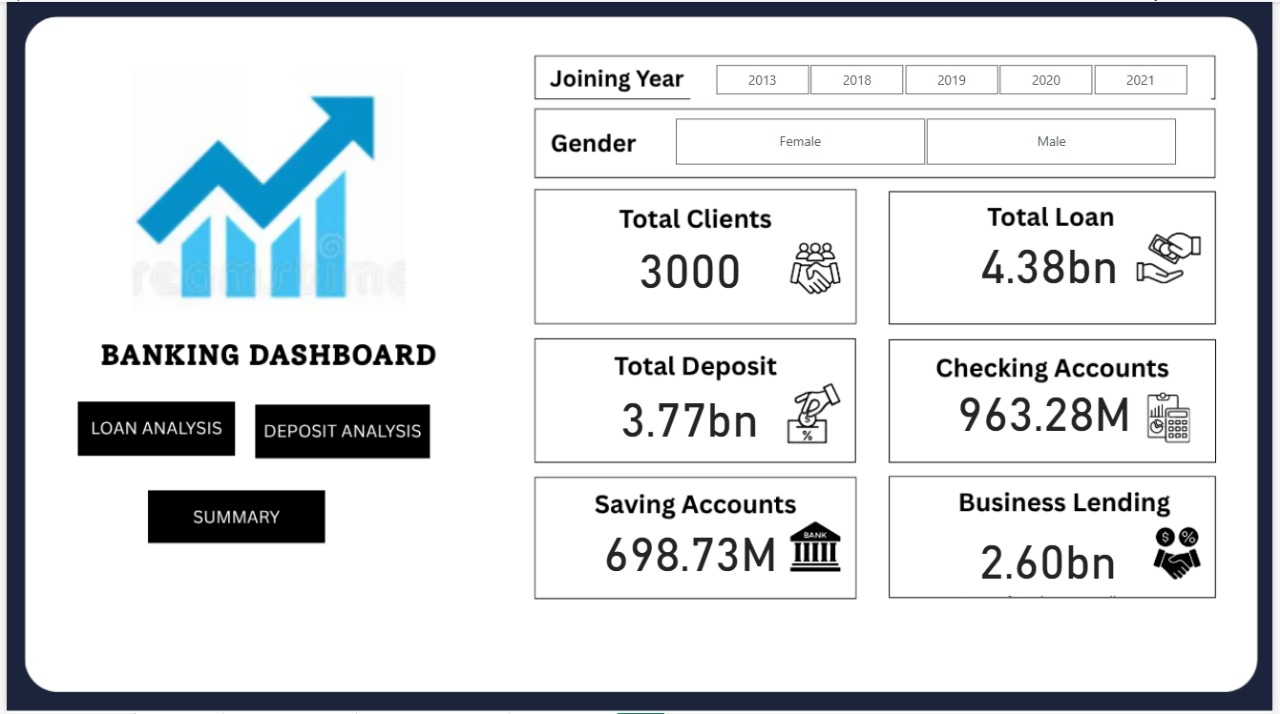

This screenshot's page, from the dashboard's own definition file:
{"tool":"powerbi","page":{"name":"Home","canvas":[1280,720],"ordinal":0},"visuals":[{"type":"card","fields":{"Values":["CountNonNull(customer.Name)"]},"box":[593.6,250.9,195.4,53.1],"z":0},{"type":"card","fields":{"Values":["customer.Total Loan"]},"box":[947.1,241.3,214.7,62.7],"z":1000},{"type":"card","fields":{"Values":["customer.Total deposit"]},"box":[570.6,394.5,240.1,67.6],"z":2000},{"type":"card","fields":{"Values":["Sum(customer.Checking Accounts)"]},"box":[936.2,392.1,225.6,61.5],"z":3000},{"type":"card","fields":{"Values":["Sum(customer.Saving Accounts)"]},"box":[540.7,536.5,301.9,56.3],"z":4000},{"type":"card","fields":{"Values":["Sum(customer.Business Lending)"]},"box":[900.2,536.5,306,71.4],"z":5000},{"type":"actionButton","box":[76,406.6,150.8,47.1],"z":6000},{"type":"actionButton","box":[249.7,406.2,179.8,54.9],"z":7000},{"type":"actionButton","box":[141.3,495.4,177,52.1],"z":8000},{"type":"slicer","fields":{"Values":["customer.GenderId"]},"box":[650.3,111,556.2,60.3],"z":9000},{"type":"slicer","fields":{"Values":["customer.Year of joining"]},"box":[691.3,56.7,526,43.4],"z":10000}]}

Visuals, with their boxes in screenshot pixels (x1, y1, x2, y2), scaled from the page's 1280x720 canvas onto the 1280x714 screenshot:
card - CountNonNull(customer.Name): 594, 249, 789, 301
card - customer.Total Loan: 947, 239, 1162, 301
card - customer.Total deposit: 571, 391, 811, 458
card - Sum(customer.Checking Accounts): 936, 389, 1162, 450
card - Sum(customer.Saving Accounts): 541, 532, 843, 588
card - Sum(customer.Business Lending): 900, 532, 1206, 603
actionButton: 76, 403, 227, 450
actionButton: 250, 403, 430, 457
actionButton: 141, 491, 318, 543
slicer - customer.GenderId: 650, 110, 1206, 170
slicer - customer.Year of joining: 691, 56, 1217, 99
